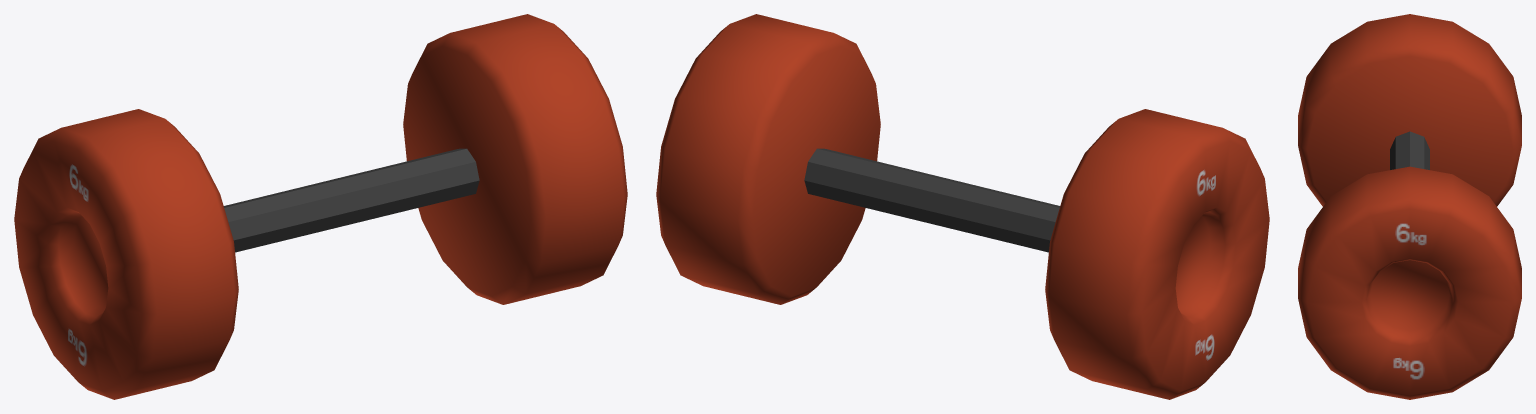
File: dumbbells.glb
The picture shows the model from 3 angles, left to right: view 1: azimuth 30°, elevation 25°; view 2: azimuth 150°, elevation 25°; view 3: azimuth 270°, elevation 25°; orthographic projection. The views are drawn at different scales.
Visible parts, largest first — view 1: Dumbbells_1; view 2: Dumbbells_1; view 3: Dumbbells_1.
Part boxes in pixels (x1=…): Dumbbells_1: x1=14, y1=14, x2=627, y2=399; Dumbbells_1: x1=656, y1=14, x2=1269, y2=399; Dumbbells_1: x1=1298, y1=14, x2=1521, y2=399.
Size of the model in its own units: 0.3522 by 0.175 by 0.175.
Materials: 1 (1 with a texture image).
